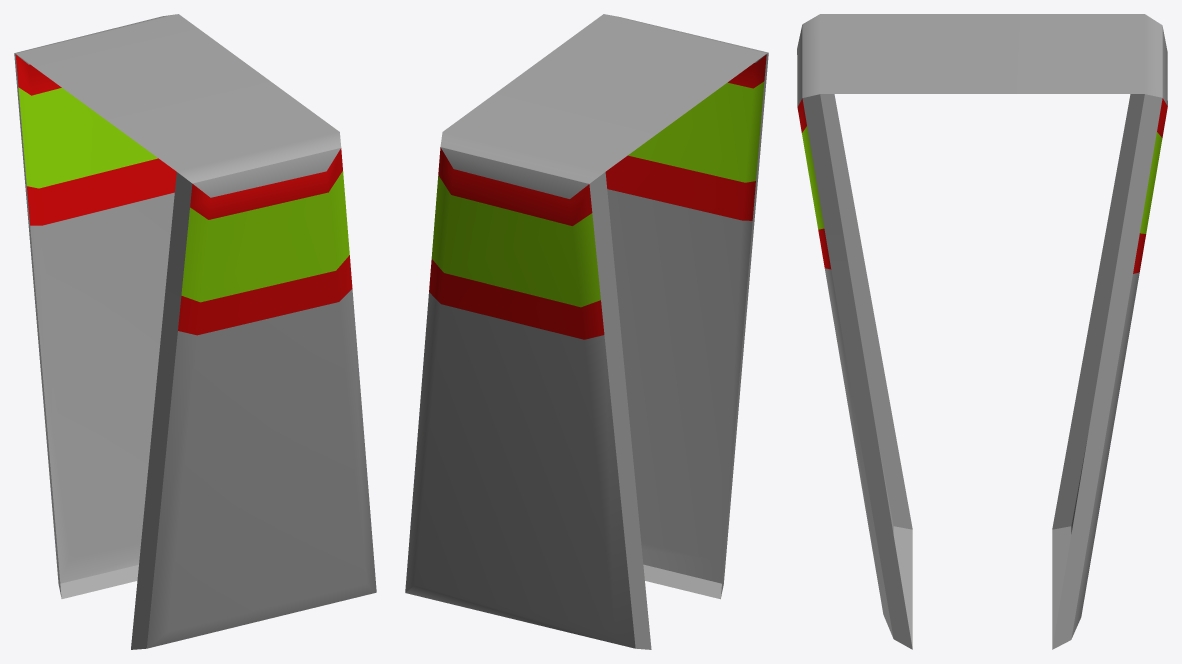
File: Imur 3.1.fbx
The picture shows the model from 3 angles, left to right: view 1: azimuth 30°, elevation 25°; view 2: azimuth 150°, elevation 25°; view 3: azimuth 270°, elevation 25°; orthographic projection.
Parts seen in each view (by area): view 1: Imur_3_1; view 2: Imur_3_1; view 3: Imur_3_1.
Part boxes in pixels (left/top/right/bottom): Imur_3_1: left=14, top=14, right=376, bottom=649; Imur_3_1: left=405, top=14, right=768, bottom=649; Imur_3_1: left=797, top=14, right=1167, bottom=649.
Size of the model in its own units: 150 by 300 by 195.
